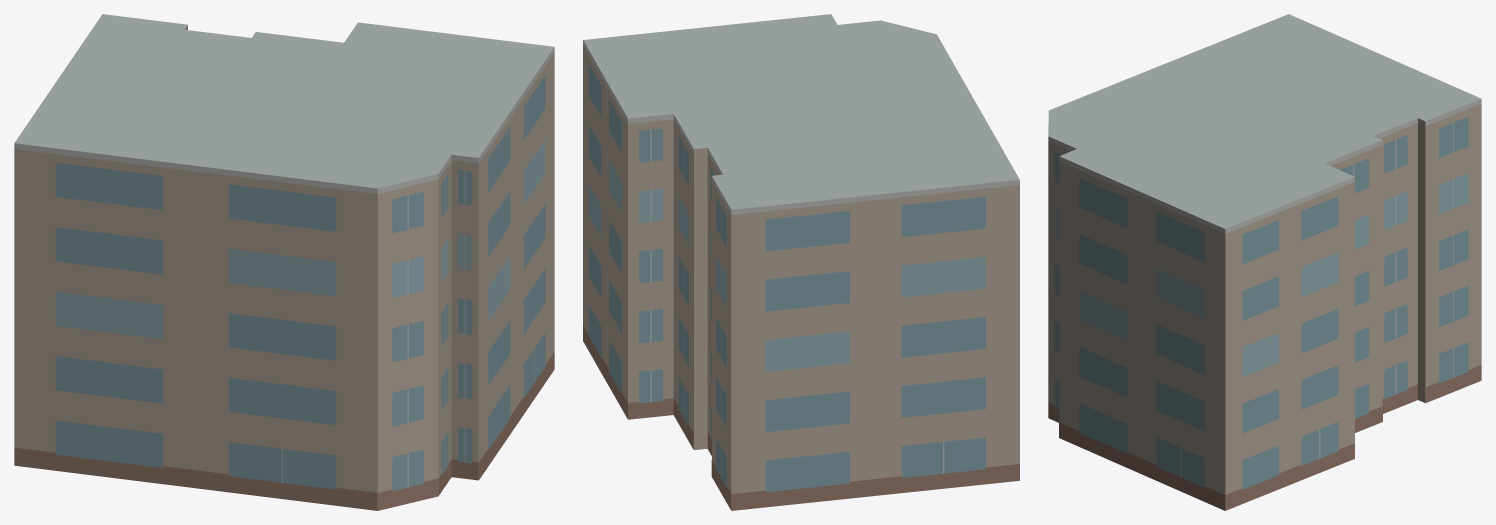
The model's file is survey-upis-32711928.glb.
3 renders of one model, left to right at view 1: azimuth 30°, elevation 25°; view 2: azimuth 150°, elevation 25°; view 3: azimuth 270°, elevation 25°, orthographic. The views are drawn at different scales.
Parts seen in each view (by area): view 1: survey-upis-32711928.tmp; view 2: survey-upis-32711928.tmp; view 3: survey-upis-32711928.tmp.
Part boxes in pixels (x1,y1,x2,y2): survey-upis-32711928.tmp: (14, 14, 554, 510); survey-upis-32711928.tmp: (583, 14, 1019, 510); survey-upis-32711928.tmp: (1048, 14, 1481, 510).
Bounding box in the file's own units: 22.59 × 13.8 × 19.24.
